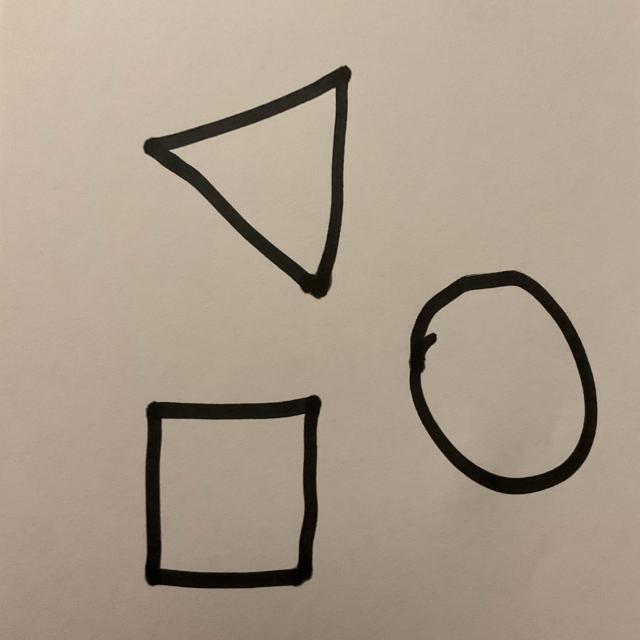Dreieck: (142, 67, 352, 301)
Kreis: (408, 270, 599, 498)
Quadrat: (143, 396, 323, 592)
